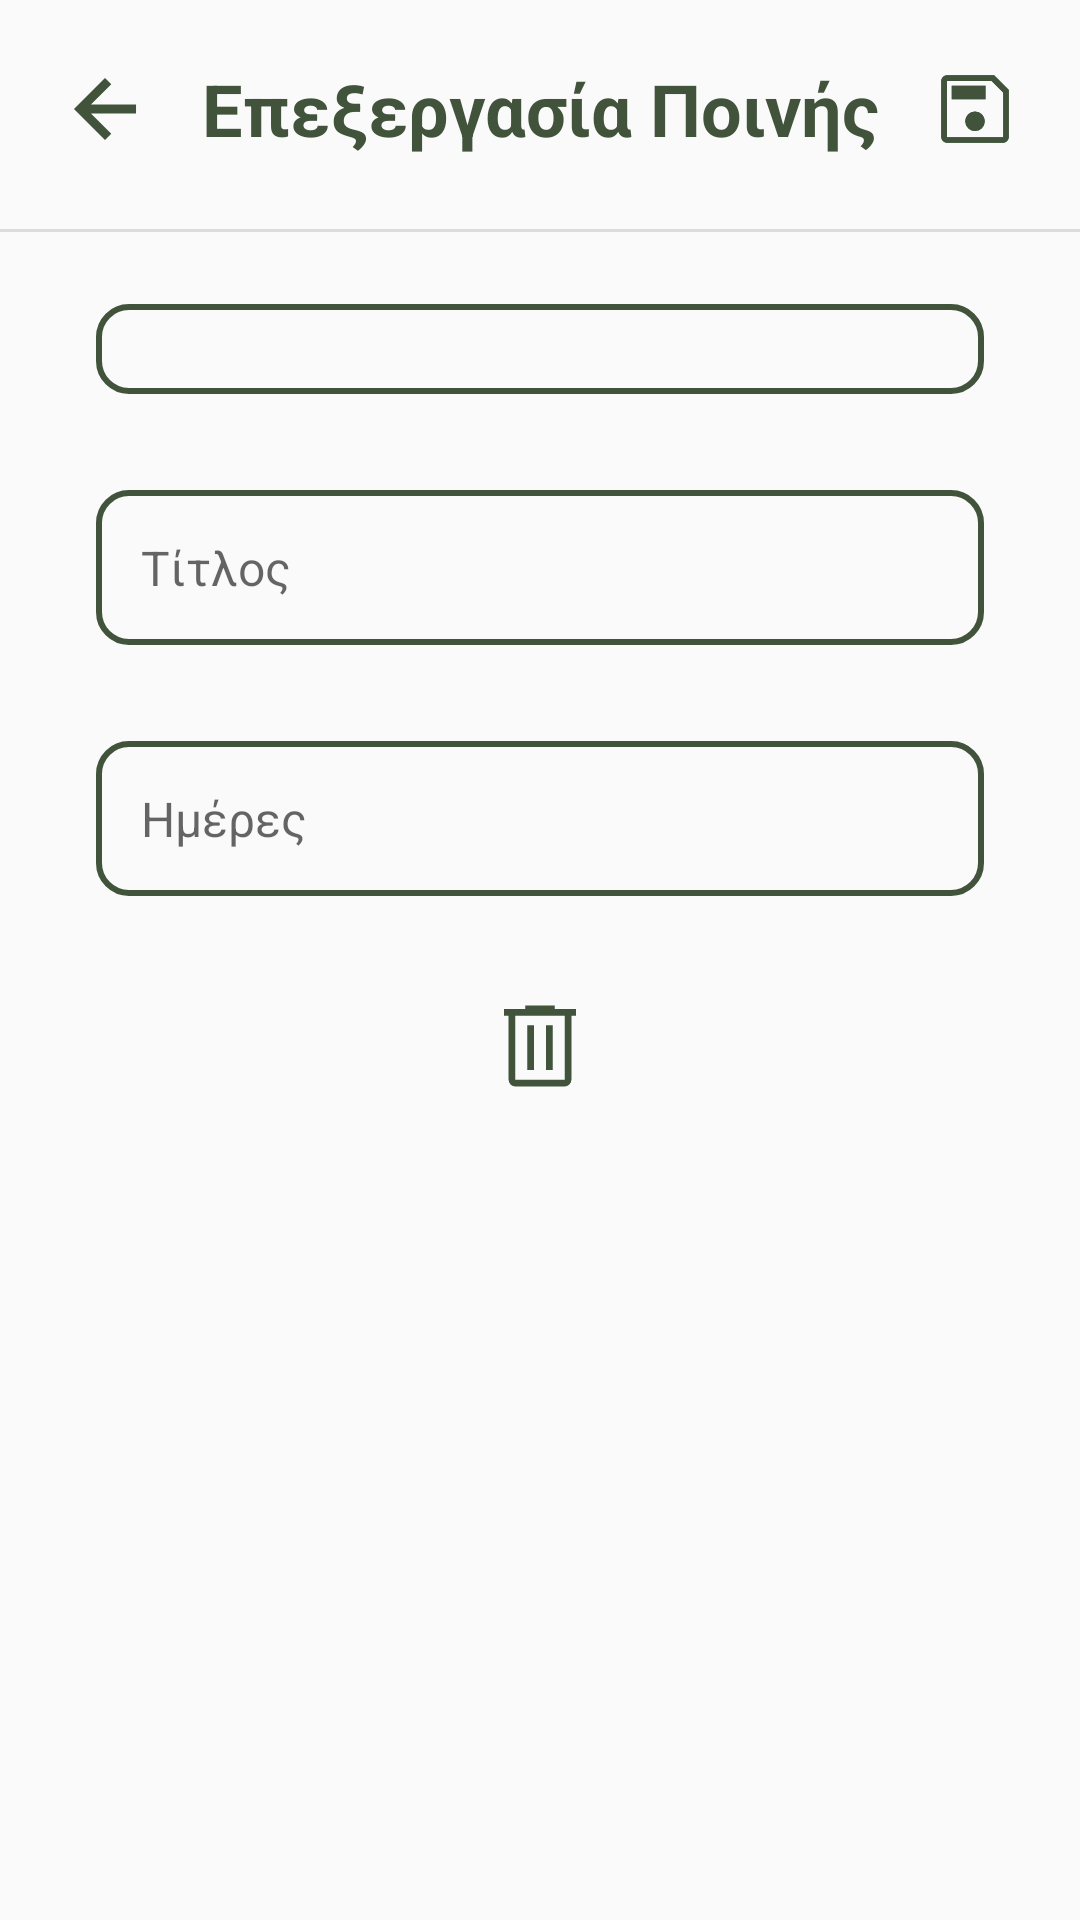

Icons on this 1080w x 1920h Android screen, each with its box as [x1=x1, y1=y1, x2=x2, y2=y2]:
arrow back: [x1=74, y1=78, x2=136, y2=140]
delete: [x1=504, y1=1005, x2=576, y2=1087]
save: [x1=941, y1=75, x2=1009, y2=143]
